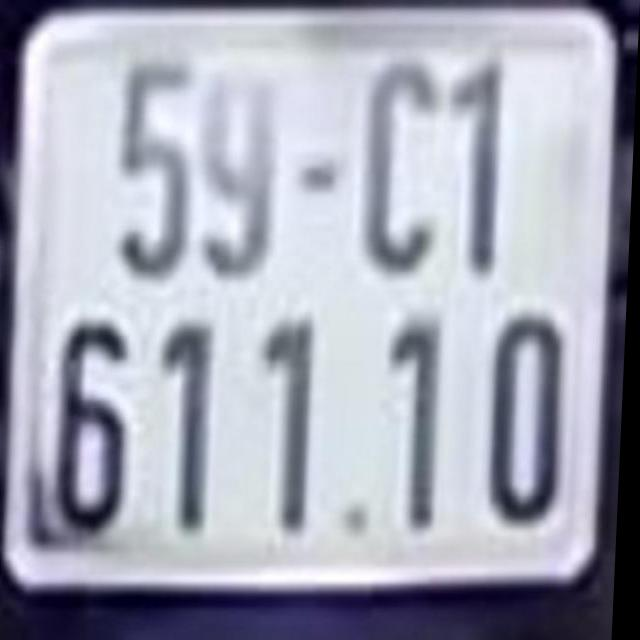0: (485, 314, 577, 521)
1: (444, 56, 513, 270), (384, 316, 447, 538), (263, 312, 320, 527), (162, 318, 219, 532)
5: (122, 60, 195, 278)
6: (55, 317, 136, 534)
9: (199, 60, 277, 276)
C: (362, 52, 435, 254)
